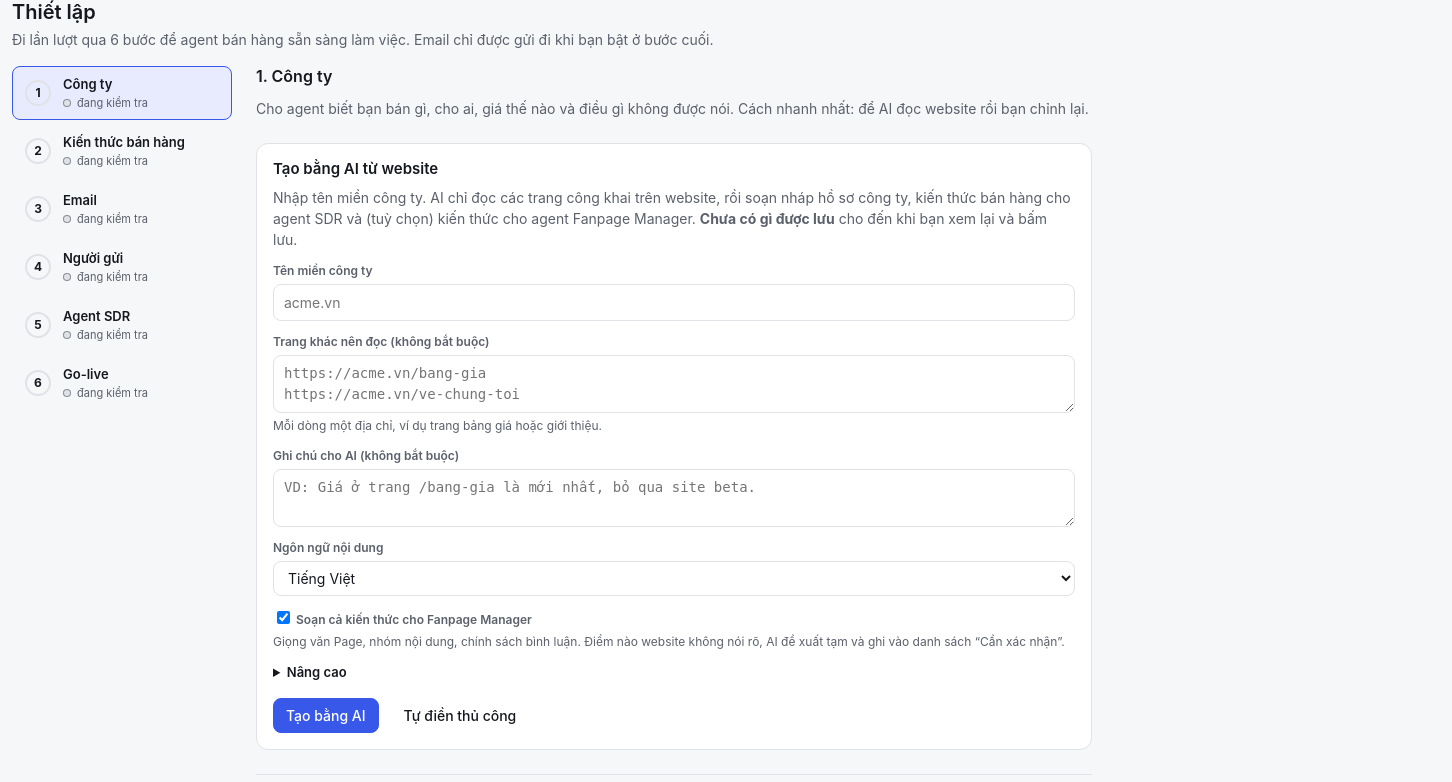
Test: Setup wizard › manual entry skips AI and shows the form
Click the button "Tự điền thủ công".
click(460, 716)  # box [391,698,529,733]
(page scrolled)
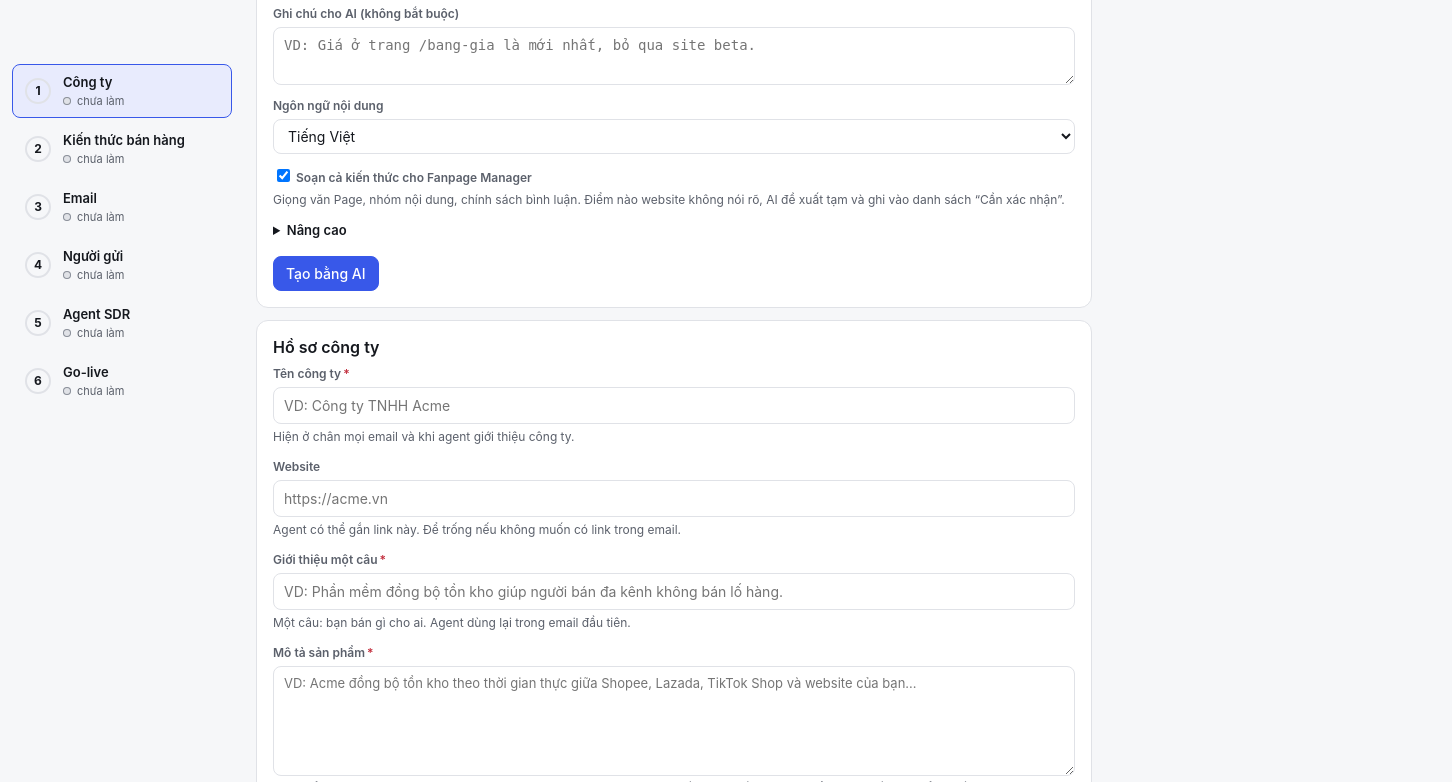
Check: the field labelled "Tên công ty*" is shown, box [273,387,1075,424]
